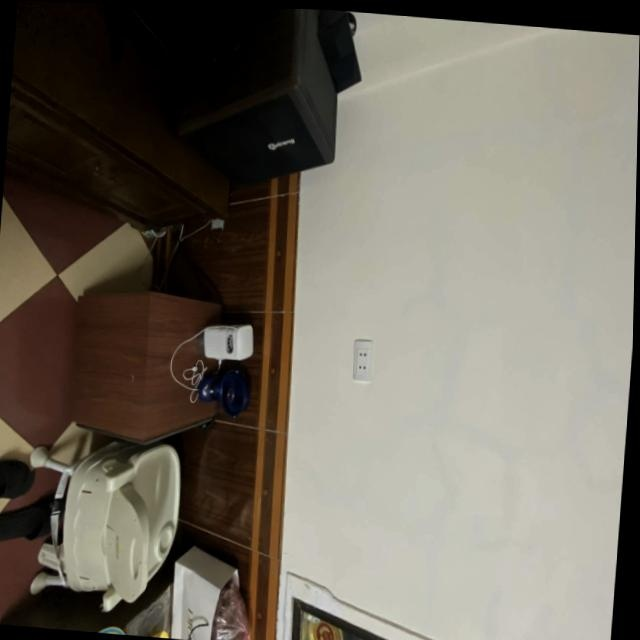outlet: (351, 339, 373, 382)
